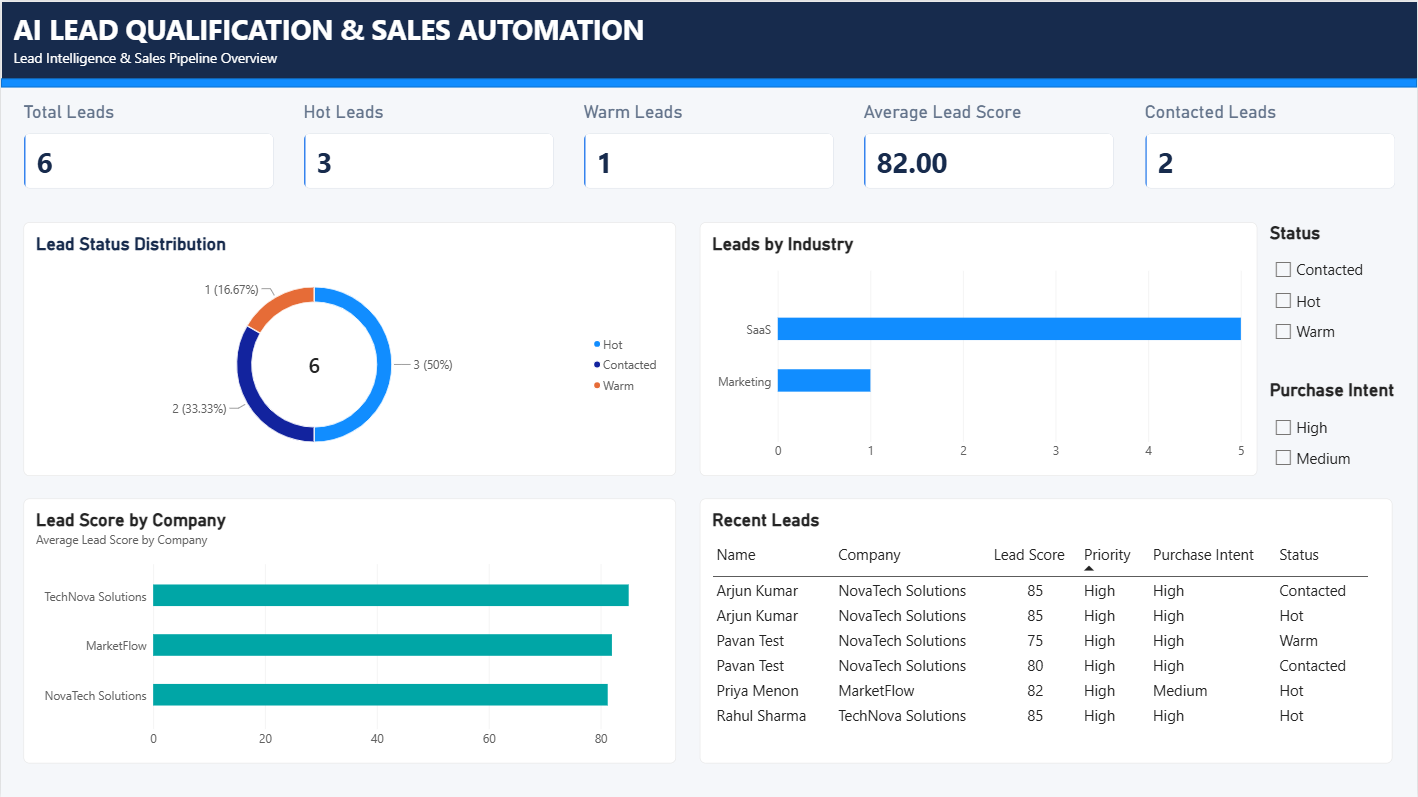

Layout of this report page (visuals, bound fields, positions):
{"tool":"powerbi","page":{"name":"Page 1","canvas":[1920,1080],"ordinal":0},"visuals":[{"type":"shape","box":[0,0,1920.4,106.1],"z":0},{"type":"textbox","box":[16.2,14.4,866.7,50.3],"z":1000},{"type":"textbox","box":[16.9,64.4,411.9,40.7],"z":2000},{"type":"shape","box":[0,105,1920,12],"z":3000},{"type":"cardVisual","title":"Total Leads","fields":{"Data":["public leads.Total Leads"]},"box":[30,135,340,120],"z":4000},{"type":"cardVisual","title":"Hot Leads","fields":{"Data":["public leads.Hot Leads"]},"box":[410,135,340,120],"z":5000},{"type":"cardVisual","title":"Warm Leads","fields":{"Data":["public leads.Warm Leads"]},"box":[790,135,340,120],"z":6000},{"type":"cardVisual","title":"Average Lead Score","fields":{"Data":["public leads.Average Lead Score"]},"box":[1170,135,340,120],"z":7000},{"type":"cardVisual","title":"Contacted Leads","fields":{"Data":["public leads.Contacted Leads"]},"box":[1550,135,340,120],"z":8000},{"type":"donutChart","title":"Lead Status Distribution","fields":{"Category":["public leads.status"],"Y":["CountNonNull(public leads.id)"]},"box":[30.5,300,884.7,344.1],"z":9000},{"type":"clusteredBarChart","title":"Leads by Industry","fields":{"Category":["public leads.industry"],"Y":["CountNonNull(public leads.id)"]},"box":[947.5,300,755.9,344.1],"z":10000},{"type":"clusteredBarChart","title":"Lead Score by Company","fields":{"Category":["public leads.company"],"Y":["Avg(public leads.lead_score)"]},"box":[30.5,674.6,884.7,359.3],"z":11000},{"type":"tableEx","title":"Recent Leads","fields":{"Values":["public leads.name","public leads.company","public leads.lead_score","public leads.priority","public leads.purchase_intent","public leads.status"]},"box":[947.5,674.6,939,359.3],"z":12000},{"type":"slicer","title":"Purchase Intent","fields":{"Values":["public leads.purchase_intent"]},"box":[1720.3,513.6,183.1,130.5],"z":13000},{"type":"slicer","title":"Status","fields":{"Values":["public leads.status"]},"box":[1720.3,300,188.1,172.9],"z":14000}]}

Visuals, with their boxes in screenshot pixels (x1, y1, x2, y2), scaled from the page's 1920x1080 canvas onto the 1418x797 screenshot:
shape: [x1=0, y1=0, x2=1417, y2=78]
textbox: [x1=12, y1=11, x2=652, y2=48]
textbox: [x1=12, y1=48, x2=317, y2=78]
shape: [x1=0, y1=77, x2=1417, y2=86]
"Total Leads" cardVisual: [x1=22, y1=100, x2=273, y2=188]
"Hot Leads" cardVisual: [x1=303, y1=100, x2=554, y2=188]
"Warm Leads" cardVisual: [x1=583, y1=100, x2=835, y2=188]
"Average Lead Score" cardVisual: [x1=864, y1=100, x2=1115, y2=188]
"Contacted Leads" cardVisual: [x1=1145, y1=100, x2=1396, y2=188]
"Lead Status Distribution" donutChart: [x1=23, y1=221, x2=676, y2=475]
"Leads by Industry" clusteredBarChart: [x1=700, y1=221, x2=1258, y2=475]
"Lead Score by Company" clusteredBarChart: [x1=23, y1=498, x2=676, y2=763]
"Recent Leads" tableEx: [x1=700, y1=498, x2=1393, y2=763]
"Purchase Intent" slicer: [x1=1271, y1=379, x2=1406, y2=475]
"Status" slicer: [x1=1271, y1=221, x2=1409, y2=349]
